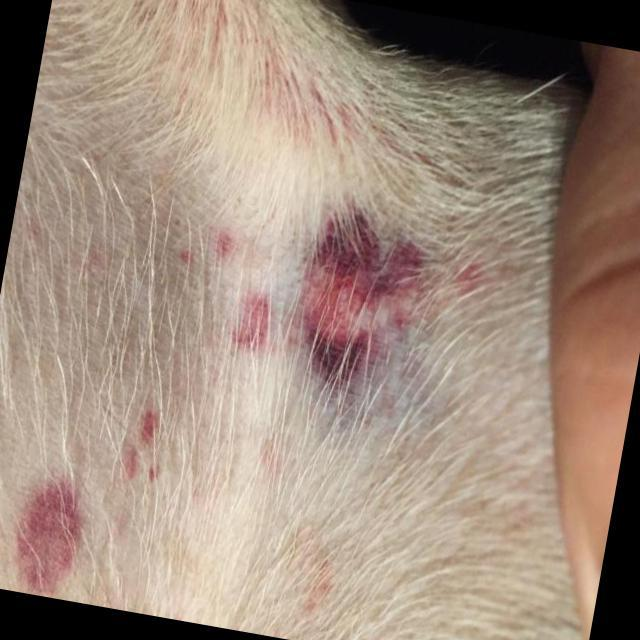allergic dermatitis: (296, 216, 478, 382), (14, 470, 98, 594), (115, 415, 173, 483), (223, 290, 267, 354)
